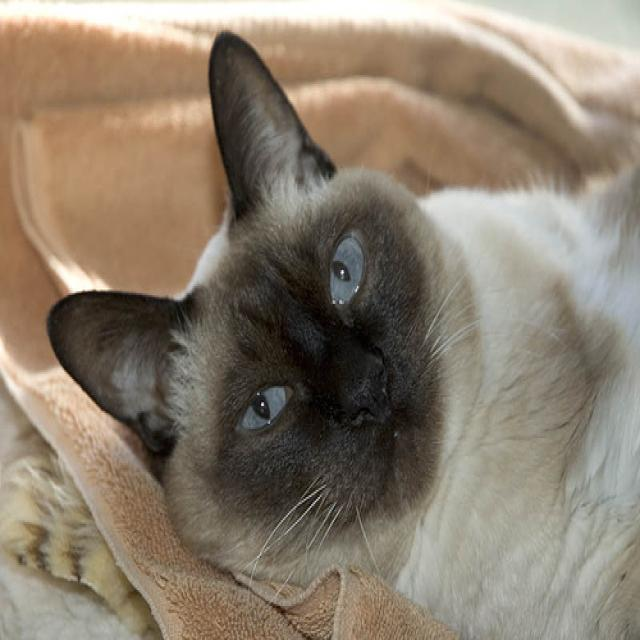left eye: (327, 229, 368, 307)
